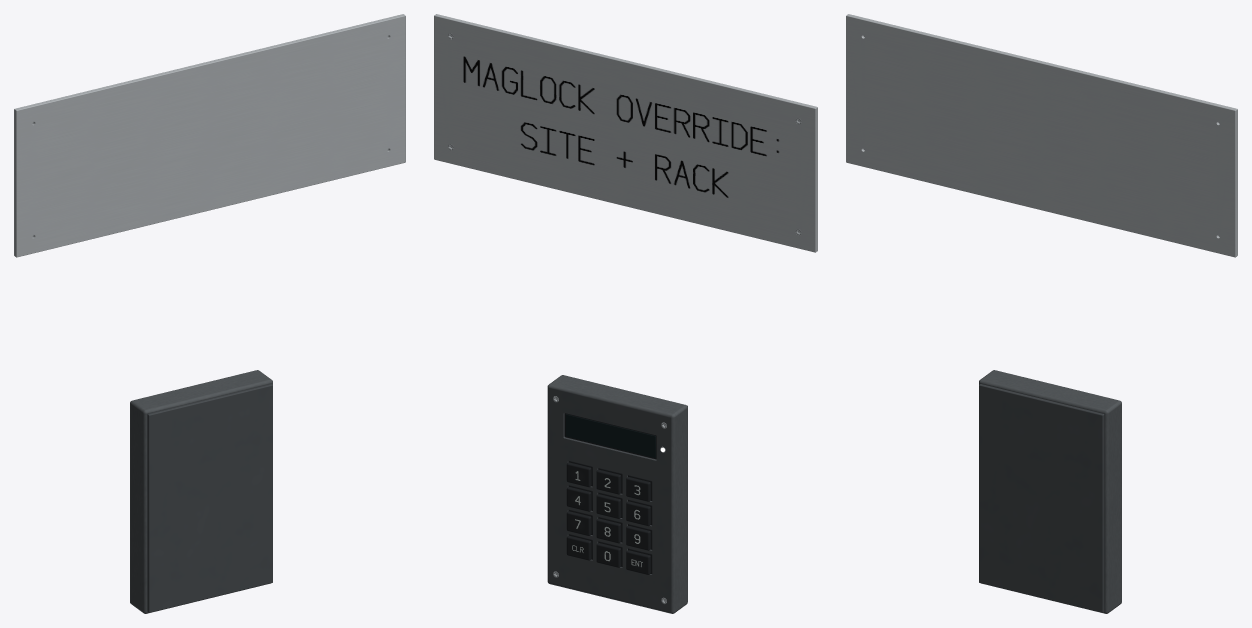
Rendered from exit_keypad_6.glb.
The picture shows the model from 3 angles, left to right: view 1: azimuth 30°, elevation 25°; view 2: azimuth 150°, elevation 25°; view 3: azimuth 330°, elevation 25°; orthographic projection. The views are drawn at different scales.
Parts seen in each view (by area): view 1: label_plate, body; view 2: label_plate, body, screen, btn_8, btn_2, btn_4, btn_1, btn_7, btn_0, btn_5, btn_clear; view 3: label_plate, body.
Part boxes in pixels (x1,y1,x2,y2): label_plate: (14, 14, 405, 257); body: (130, 370, 272, 613); label_plate: (434, 14, 817, 252); body: (547, 375, 687, 613); screen: (565, 414, 655, 458); btn_8: (596, 518, 621, 543); btn_2: (596, 469, 621, 494); btn_4: (566, 487, 591, 511); btn_1: (566, 462, 591, 487); btn_7: (566, 511, 591, 535); btn_0: (596, 543, 621, 567); btn_5: (596, 494, 621, 518); btn_clear: (566, 535, 591, 560); label_plate: (846, 14, 1237, 257); body: (979, 370, 1121, 613).
Size of what is drawn, in the model's own units: 0.36 by 0.475 by 0.032.
Materials: 6 (4 with a texture image).
